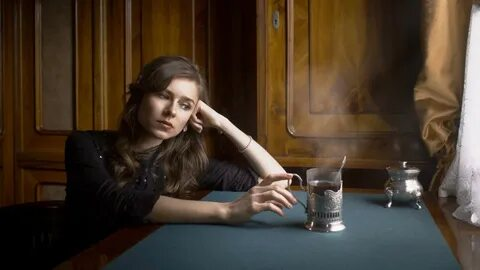awake: (63, 54, 297, 229)
